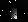person: (9, 6, 17, 19)
